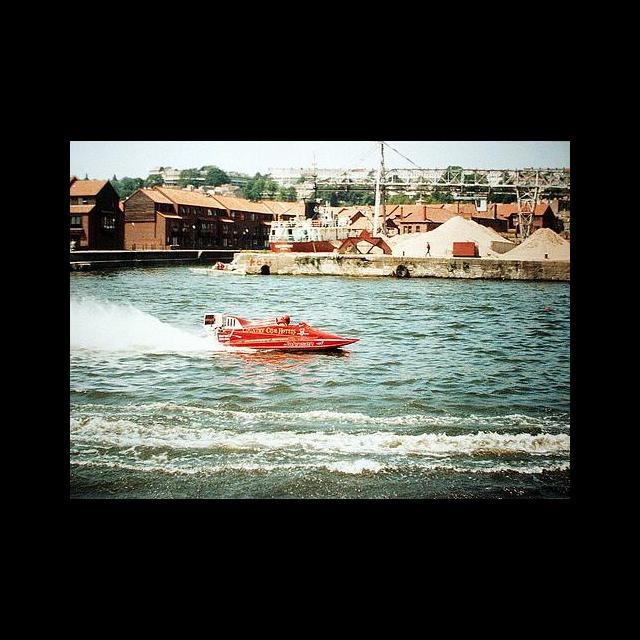Hardhat: (280, 315, 292, 323)
NO-Safety Vest: (425, 241, 432, 257), (427, 244, 430, 251)
Person: (279, 315, 291, 327)
